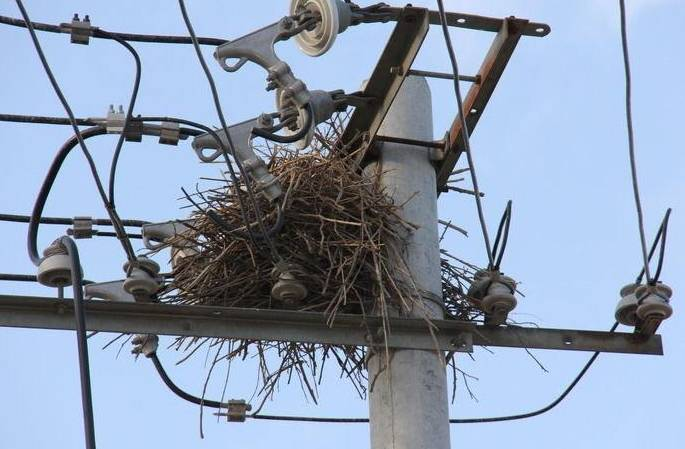bird-nest: (170, 156, 417, 323)
